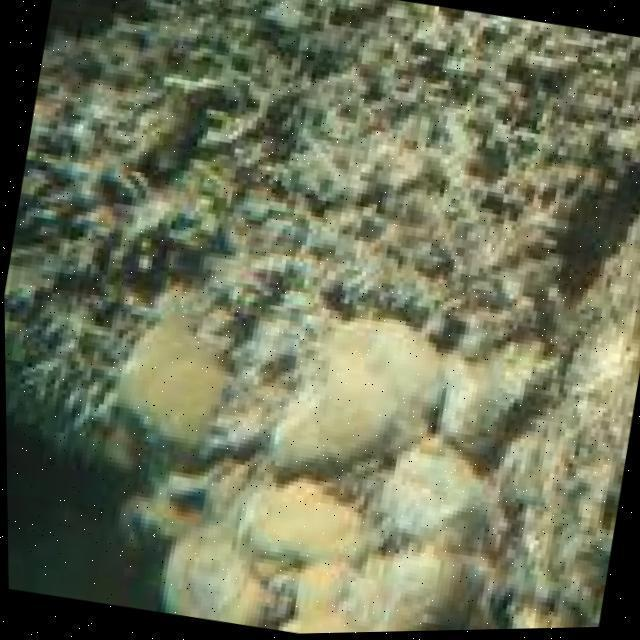Dead Coral: (31, 0, 639, 326)
